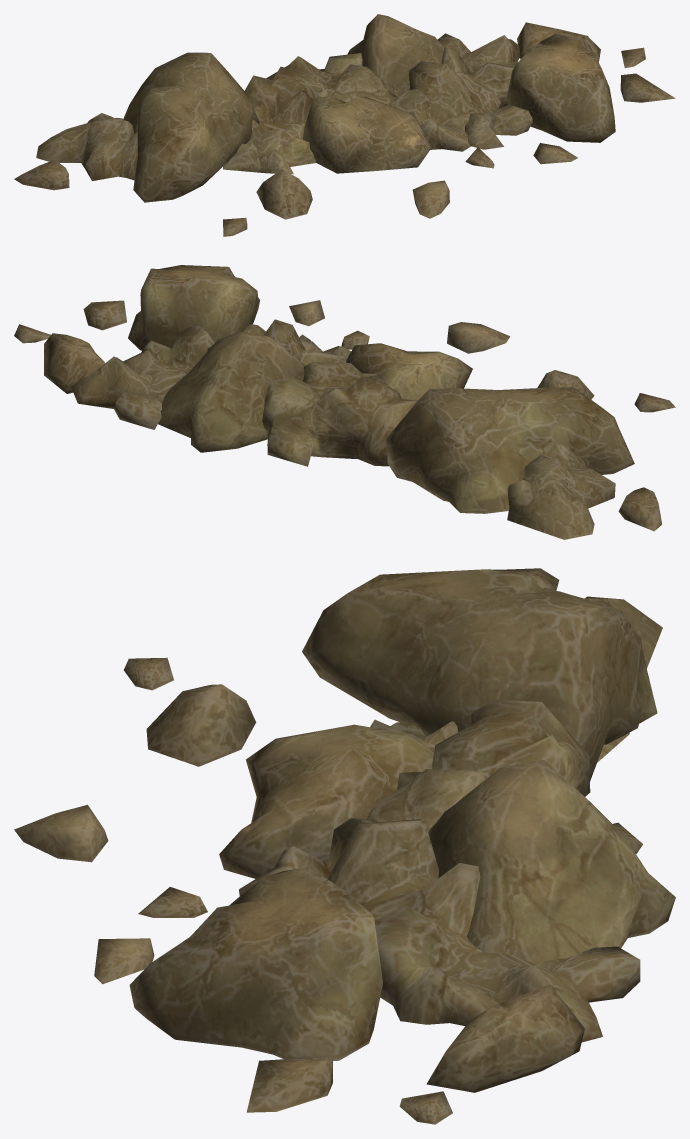
Rendered from Rubble1.fbx.
3 views of the same model, one above another, from view 1: azimuth 30°, elevation 25°; view 2: azimuth 150°, elevation 25°; view 3: azimuth 270°, elevation 25° (orthographic). The views are drawn at different scales.
Visible parts, largest first — view 1: SM_a_005_Rubble_01a; view 2: SM_a_005_Rubble_01a; view 3: SM_a_005_Rubble_01a.
Part boxes in pixels (<box>): SM_a_005_Rubble_01a: <box>14,14,675,236</box>; SM_a_005_Rubble_01a: <box>14,265,675,539</box>; SM_a_005_Rubble_01a: <box>14,568,675,1124</box>.
Bounding box in the file's own units: 278 × 35.68 × 141.
